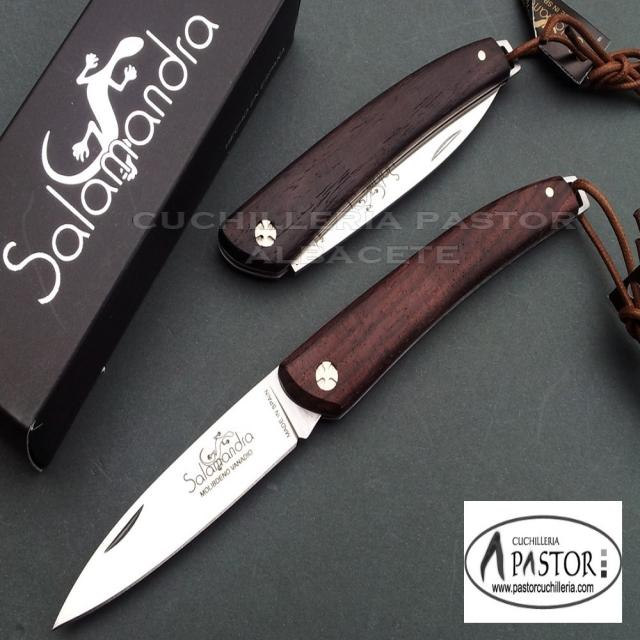knife: (41, 169, 613, 640)
